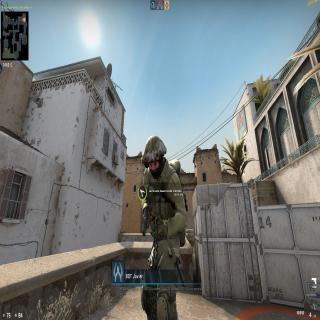CT-Head: (141, 130, 168, 180)
